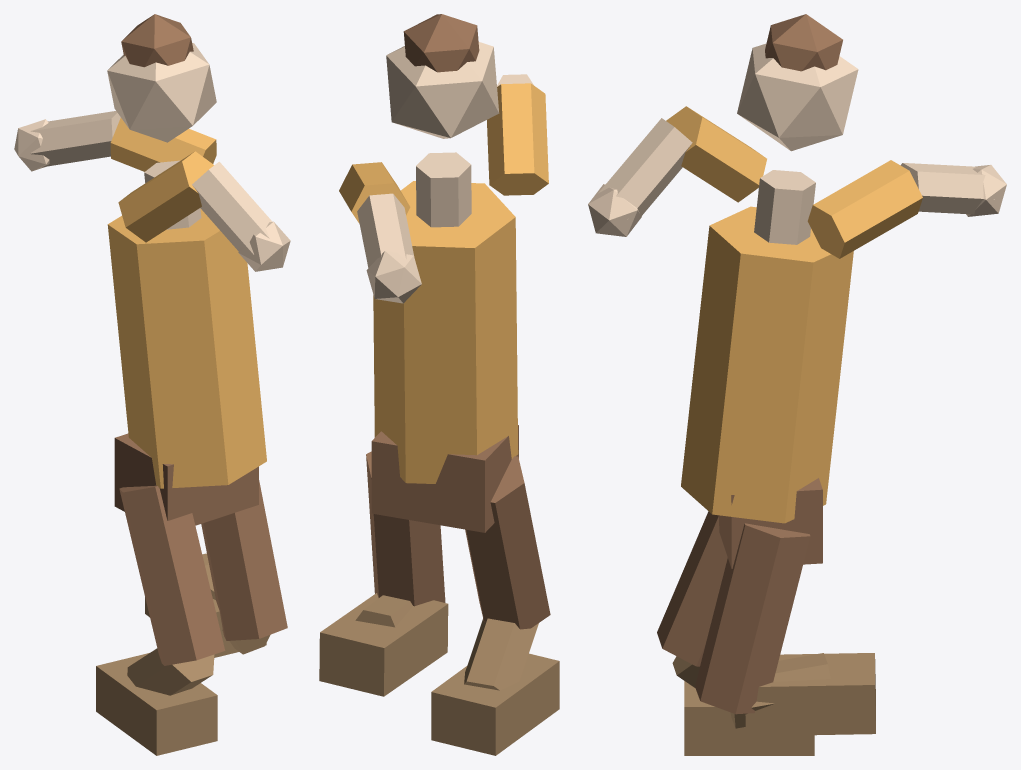
File: pose_attack_1_08.glb
3 views of the same model, side by side, from view 1: azimuth 30°, elevation 25°; view 2: azimuth 150°, elevation 25°; view 3: azimuth 270°, elevation 25° (orthographic). The views are drawn at different scales.
Parts seen in each view (by area): view 1: pose; view 2: pose; view 3: pose.
Boxes of the visible parts, <box> form: pose: <box>14,14,290,755</box>; pose: <box>319,14,559,755</box>; pose: <box>588,14,1006,755</box>.
Size of the model in its own units: 0.369 by 1.5 by 0.7724.
